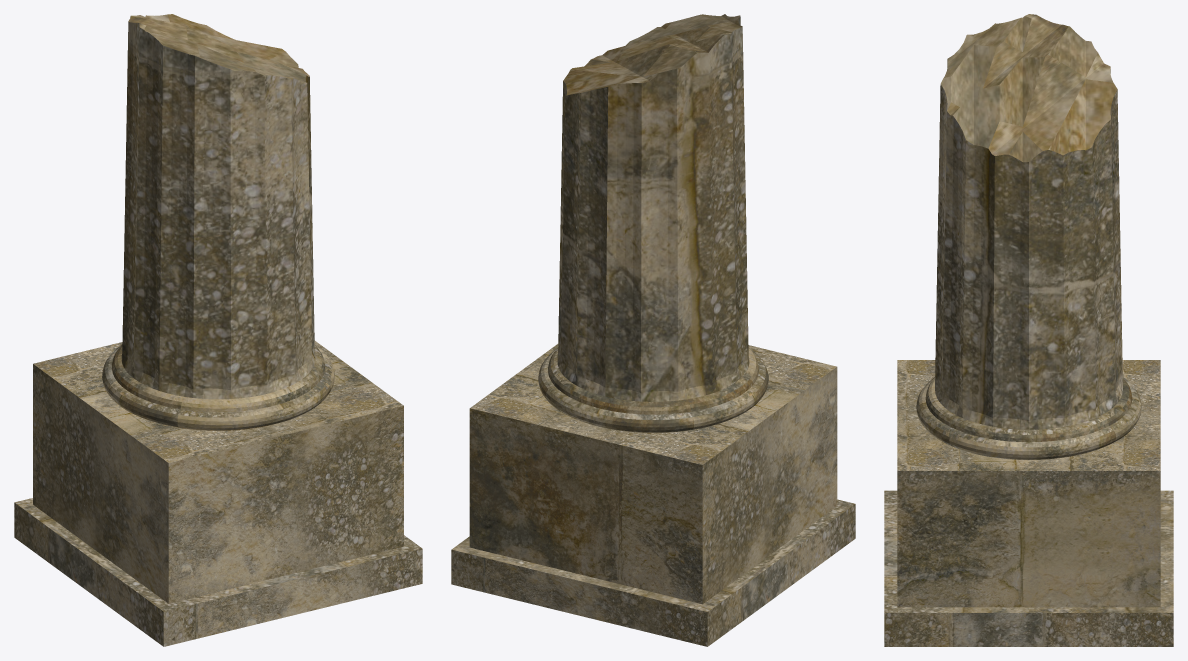
Rendered from Pillar broken short 2.fbx.
3 renders of one model, left to right at view 1: azimuth 30°, elevation 25°; view 2: azimuth 150°, elevation 25°; view 3: azimuth 270°, elevation 25°, orthographic. The views are drawn at different scales.
Parts seen in each view (by area): view 1: Pillar broken short 2; view 2: Pillar broken short 2; view 3: Pillar broken short 2.
Boxes of the visible parts, x1,y1,x2,y2 form: Pillar broken short 2: [14, 14, 422, 646]; Pillar broken short 2: [451, 14, 855, 646]; Pillar broken short 2: [884, 14, 1173, 646].
Bounding box in the file's own units: 308 × 629 × 308.
